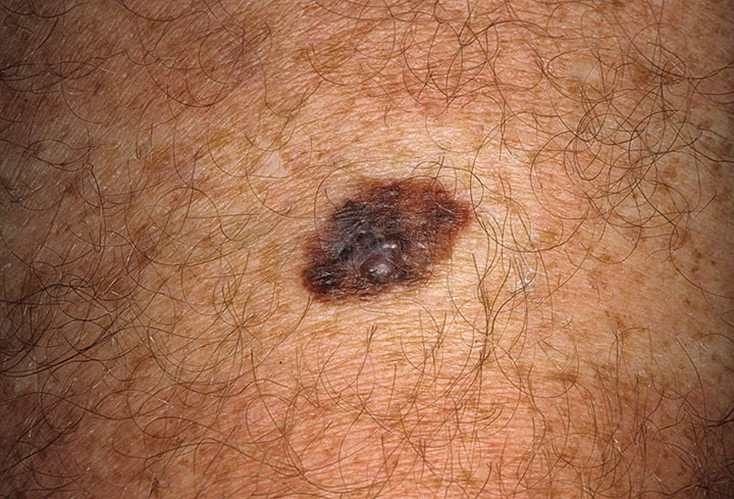melanoma: (292, 147, 499, 326)
